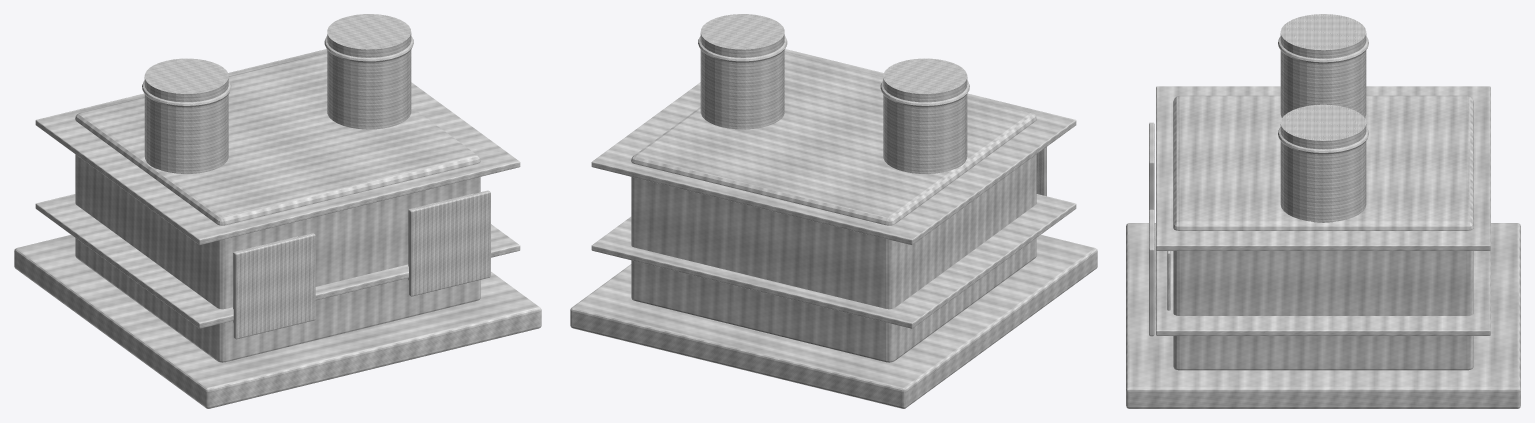
The model's file is resource-well-pressurizer_variant_d.glb.
3 renders of one model, left to right at view 1: azimuth 30°, elevation 25°; view 2: azimuth 150°, elevation 25°; view 3: azimuth 270°, elevation 25°, orthographic.
Parts seen in each view (by area): view 1: Main structural housing.003, Foundation.003, Service walkway.007, Vertical process vessel.007, Vertical process vessel.006, Service walkway.006, Protective frame.006, Protective frame.007, Vessel rim.007, Vessel rim.006; view 2: Main structural housing.003, Foundation.003, Service walkway.007, Service walkway.006, Vertical process vessel.007, Vertical process vessel.006, Vessel rim.007, Vessel rim.006, Protective frame.006; view 3: Main structural housing.003, Foundation.003, Service walkway.007, Vertical process vessel.007, Service walkway.006, Vertical process vessel.006, Protective frame.007, Vessel rim.006, Vessel rim.007, Protective frame.006.
Boxes of the visible parts, x1,y1,x2,y2 form: Main structural housing.003: (75, 52, 480, 362); Foundation.003: (14, 235, 541, 408); Service walkway.007: (35, 49, 520, 244); Vertical process vessel.007: (327, 14, 411, 129); Vertical process vessel.006: (144, 58, 228, 173); Service walkway.006: (35, 194, 520, 328); Protective frame.006: (233, 233, 315, 339); Protective frame.007: (409, 190, 490, 296); Vessel rim.007: (324, 36, 413, 62); Vessel rim.006: (142, 80, 231, 107); Main structural housing.003: (631, 52, 1036, 362); Foundation.003: (570, 235, 1097, 408); Service walkway.007: (591, 49, 1076, 244); Service walkway.006: (591, 194, 1076, 328); Vertical process vessel.007: (700, 14, 784, 129); Vertical process vessel.006: (883, 58, 967, 173); Vessel rim.007: (698, 36, 787, 62); Vessel rim.006: (880, 80, 969, 107); Protective frame.006: (1036, 147, 1046, 196); Main structural housing.003: (1173, 95, 1473, 370); Foundation.003: (1126, 223, 1520, 408); Service walkway.007: (1156, 86, 1490, 250); Vertical process vessel.007: (1280, 104, 1366, 222); Service walkway.006: (1156, 250, 1490, 335); Vertical process vessel.006: (1280, 14, 1366, 117); Protective frame.007: (1149, 209, 1154, 336); Vessel rim.006: (1278, 36, 1368, 63); Vessel rim.007: (1278, 127, 1368, 154); Protective frame.006: (1149, 122, 1154, 210).
Size of what is drawn, in the model's own units: 7.36 by 5.12 by 7.36.
6 materials, 6 textured.
